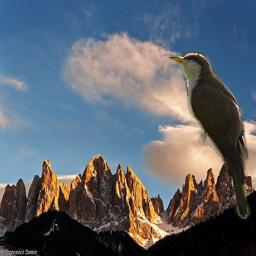Cuckoo: (168, 51, 252, 221)
